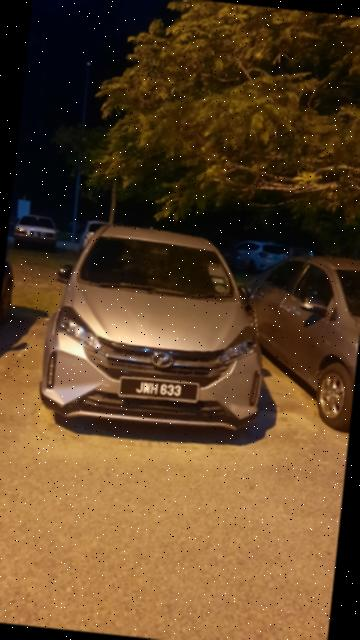License_Plate: (118, 375, 201, 406)
car: (35, 214, 282, 443)
